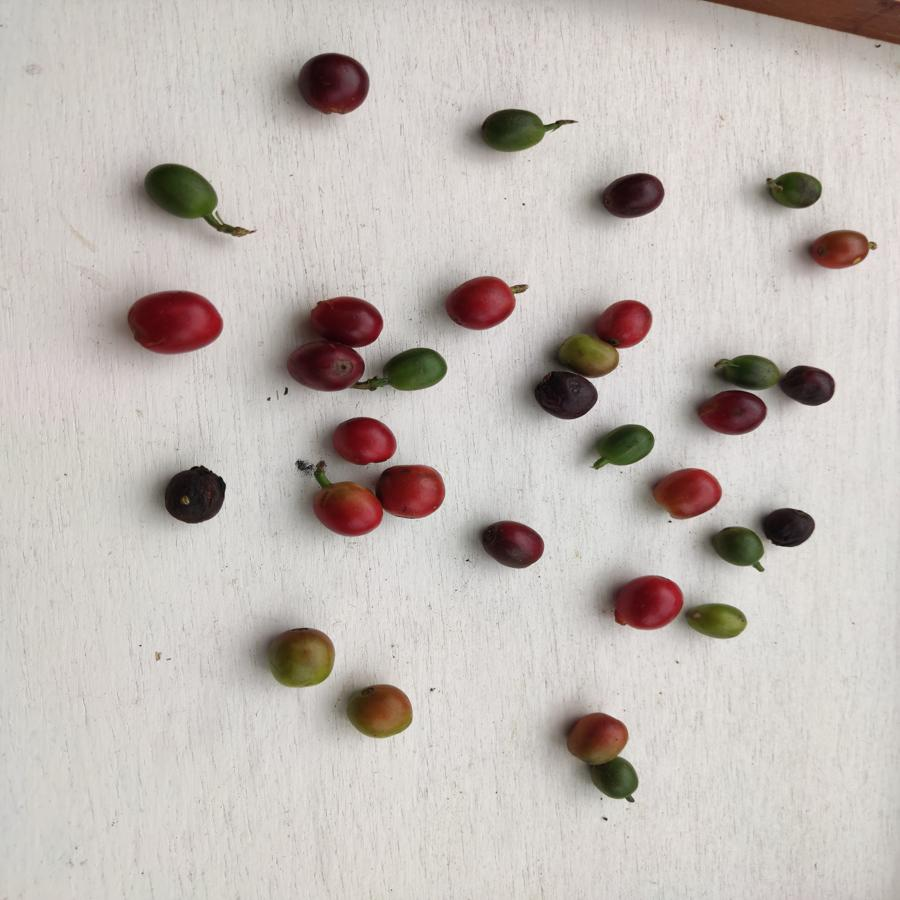Inmaduro: (144, 162, 221, 224), (382, 343, 448, 398), (480, 104, 545, 156), (595, 421, 654, 471), (763, 168, 824, 213), (714, 351, 781, 389), (711, 525, 764, 571), (589, 759, 642, 798)
Maduro: (122, 285, 227, 356), (611, 574, 684, 637), (446, 273, 521, 333), (374, 463, 448, 521), (644, 470, 725, 521), (314, 478, 383, 537), (331, 418, 399, 466), (596, 296, 655, 351)
Pinton: (264, 626, 336, 692), (345, 680, 413, 743), (554, 332, 620, 382), (567, 712, 626, 763), (685, 602, 755, 644), (809, 225, 870, 273)
Sobremaduro: (296, 48, 372, 115), (285, 338, 365, 395), (160, 466, 230, 524), (305, 295, 380, 346), (602, 168, 674, 220), (478, 519, 546, 572), (534, 368, 600, 422), (700, 388, 767, 441), (780, 363, 837, 411), (763, 504, 815, 550)
